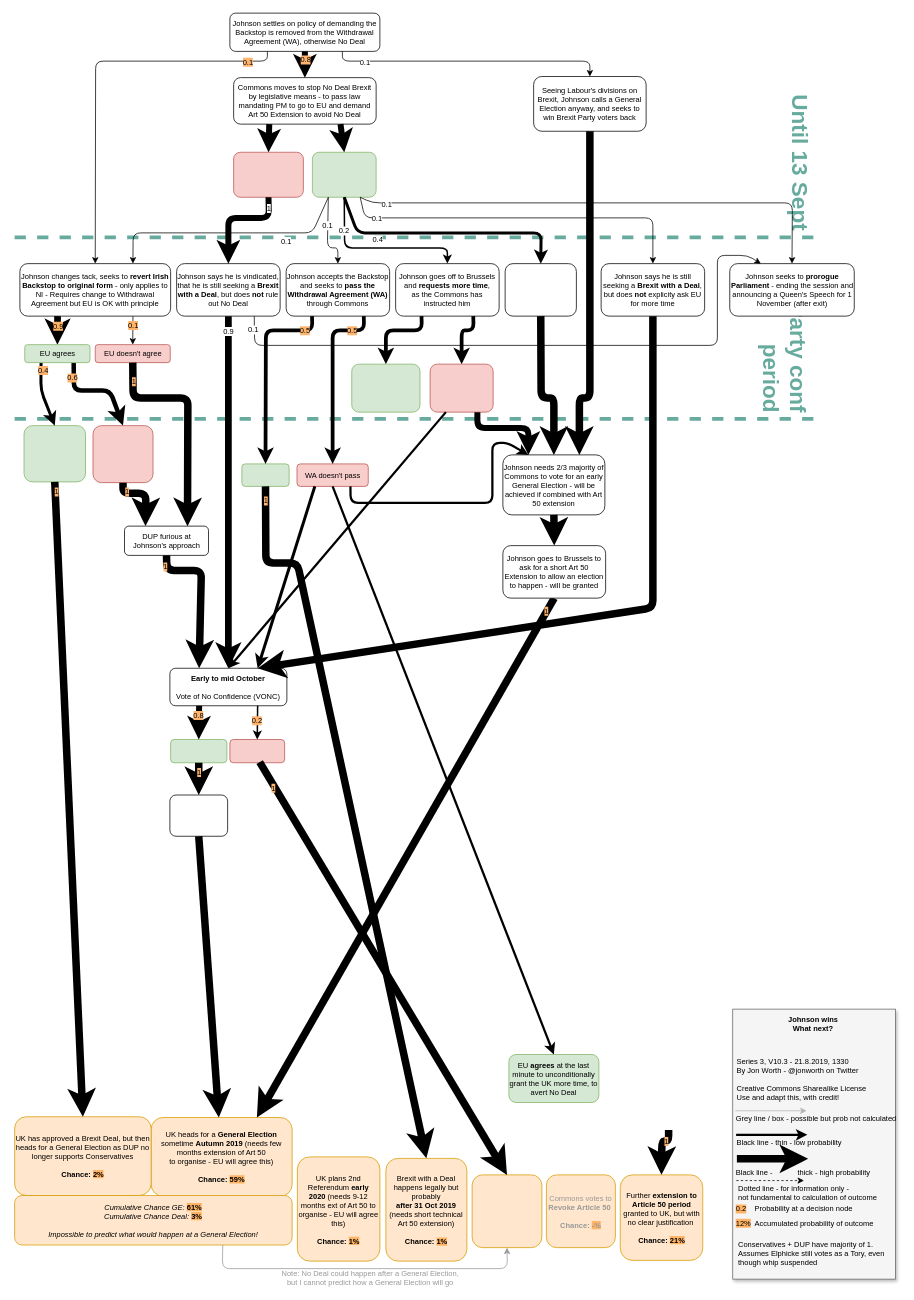
The diagram is 914 pixels wide and 1300 high, and some of its shapes have lost their labels. Each missing label, with the centre of its shape:
"Commons votes against Deal with original backstop" belongs at (122,454).
"Commons votes in favour of Deal with original backstop" belongs at (54,453).
"Emergency legislation to prevent No Deal" belongs at (198,815).
"EU agrees to unconditionally grant the UK more time" belongs at (385,387).
"EU refuses to unconditionally grant the UK more time" belongs at (461,387).
"Legislative efforts fail and law is not passed" belongs at (268,174).
"Legislative efforts succeed and law is passed" belongs at (344,174).
"No Deal Brexit looms on 31 October 2019, Chance: 16%" belongs at (506,1211).
"Seeing there is no support for his way forward, Johnson calls an election" belongs at (540,289).
"VONC doesn't pass" belongs at (257,751).
"VONC passes" belongs at (198,751).
"WA passes" belongs at (265,474).
